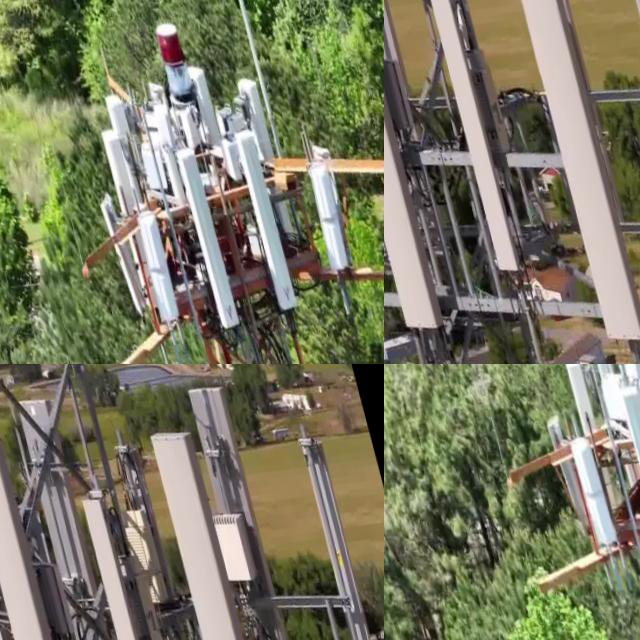GSM Antenna: (492, 0, 640, 342), (499, 0, 640, 282), (141, 402, 306, 640), (417, 0, 534, 289), (184, 375, 309, 640), (8, 379, 106, 640), (0, 407, 108, 640), (384, 0, 463, 303), (384, 0, 448, 333), (295, 413, 384, 640), (157, 118, 244, 333), (72, 472, 179, 640), (72, 474, 178, 640), (222, 108, 304, 314), (291, 141, 358, 275), (561, 418, 624, 553), (91, 178, 144, 315), (606, 364, 640, 567), (535, 406, 582, 519), (232, 56, 278, 155), (92, 119, 139, 209), (551, 364, 602, 434), (100, 81, 136, 137), (580, 364, 617, 388)
